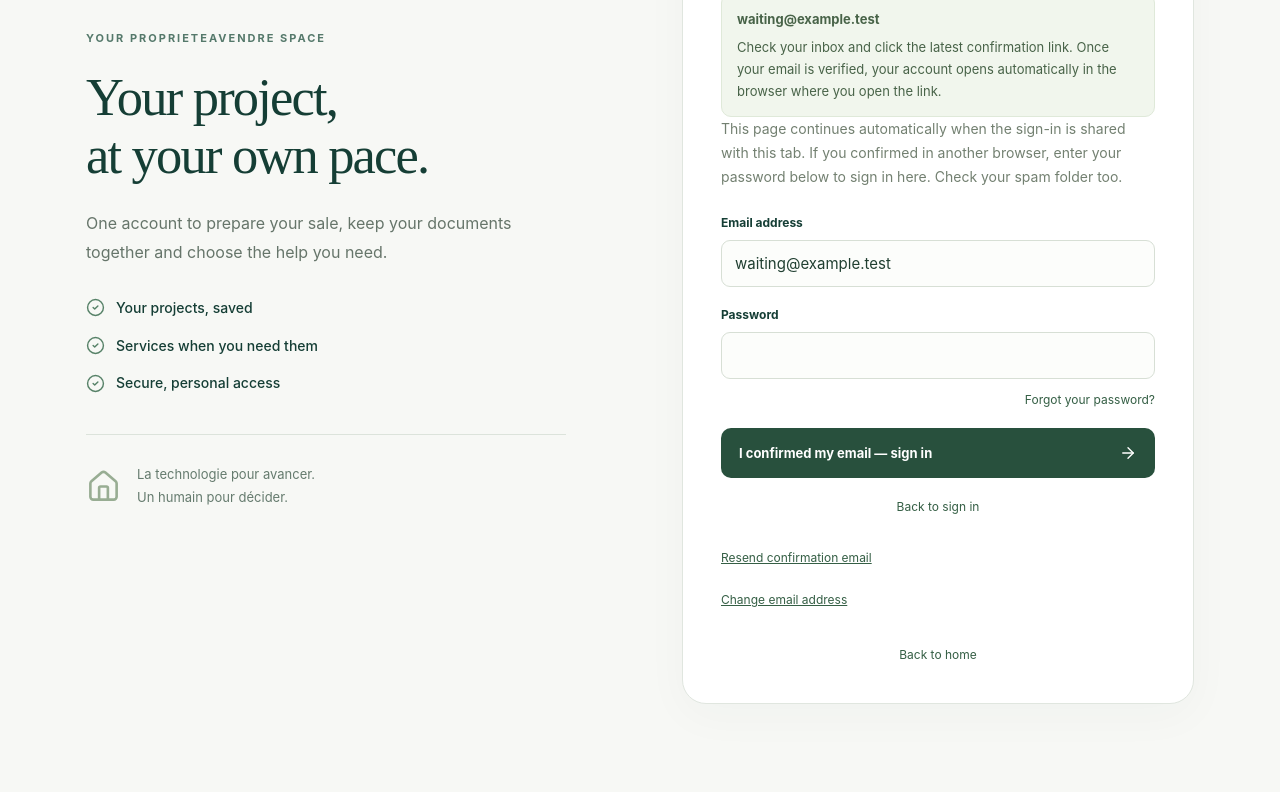
Test case: authentication boundaries › restores the waiting screen after refresh and does not report a failed resend as sent
(page scrolled)
Click the button "Resend confirmation email".
click(796, 558)  # box [721,537,872,579]
(page scrolled)
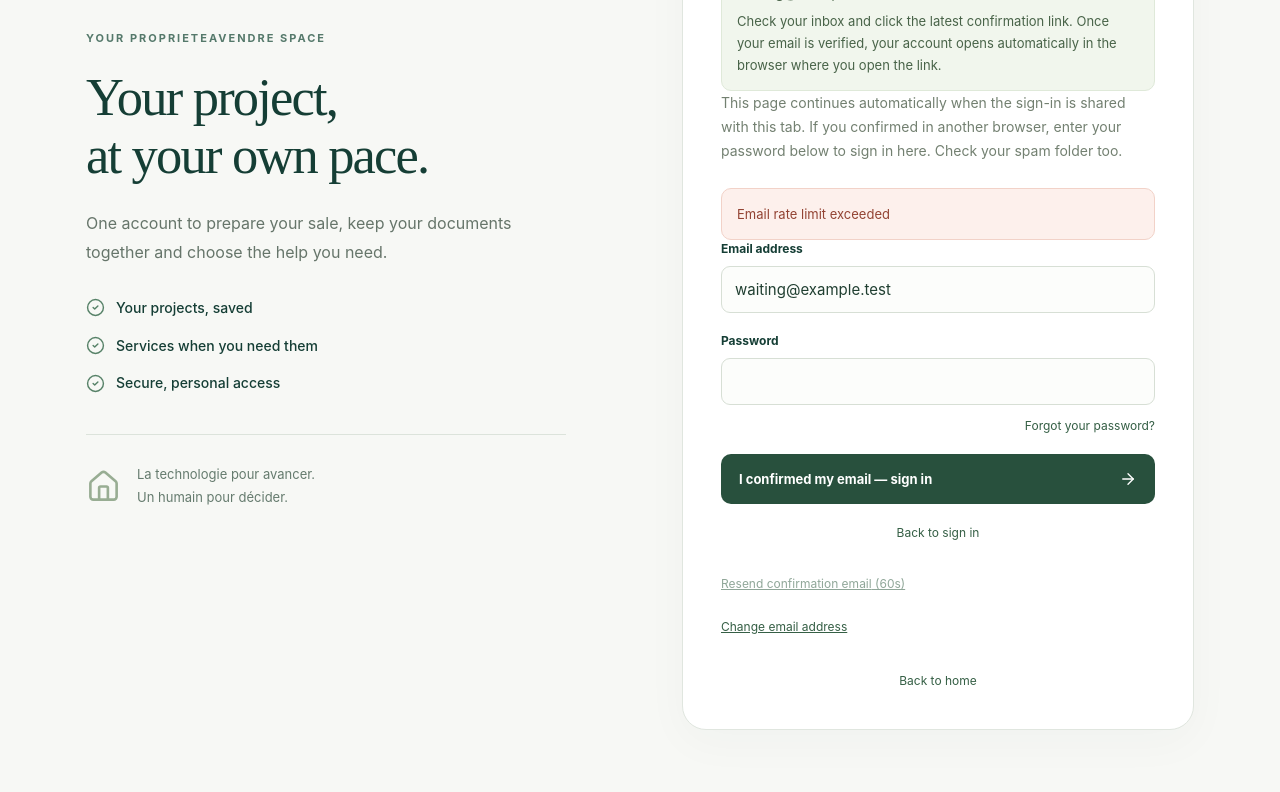
Result: the text "Email rate limit exceeded" is shown at [721,188,1155,240]
Result: the button "Resend confirmation email (60s)" is disabled at [721,563,905,606]
